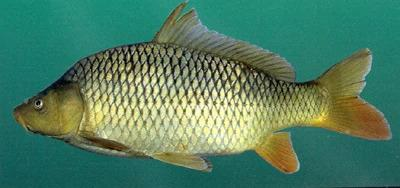Grass Carp: (14, 1, 393, 177)
